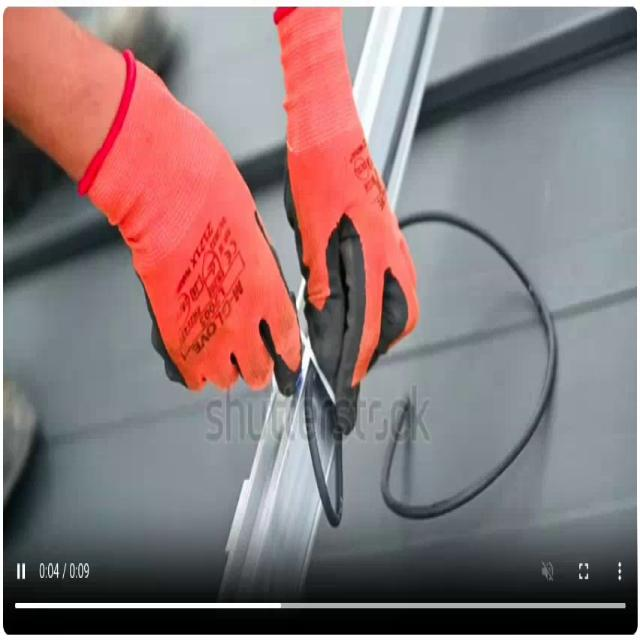gloved: (76, 48, 302, 396), (272, 5, 419, 434)
